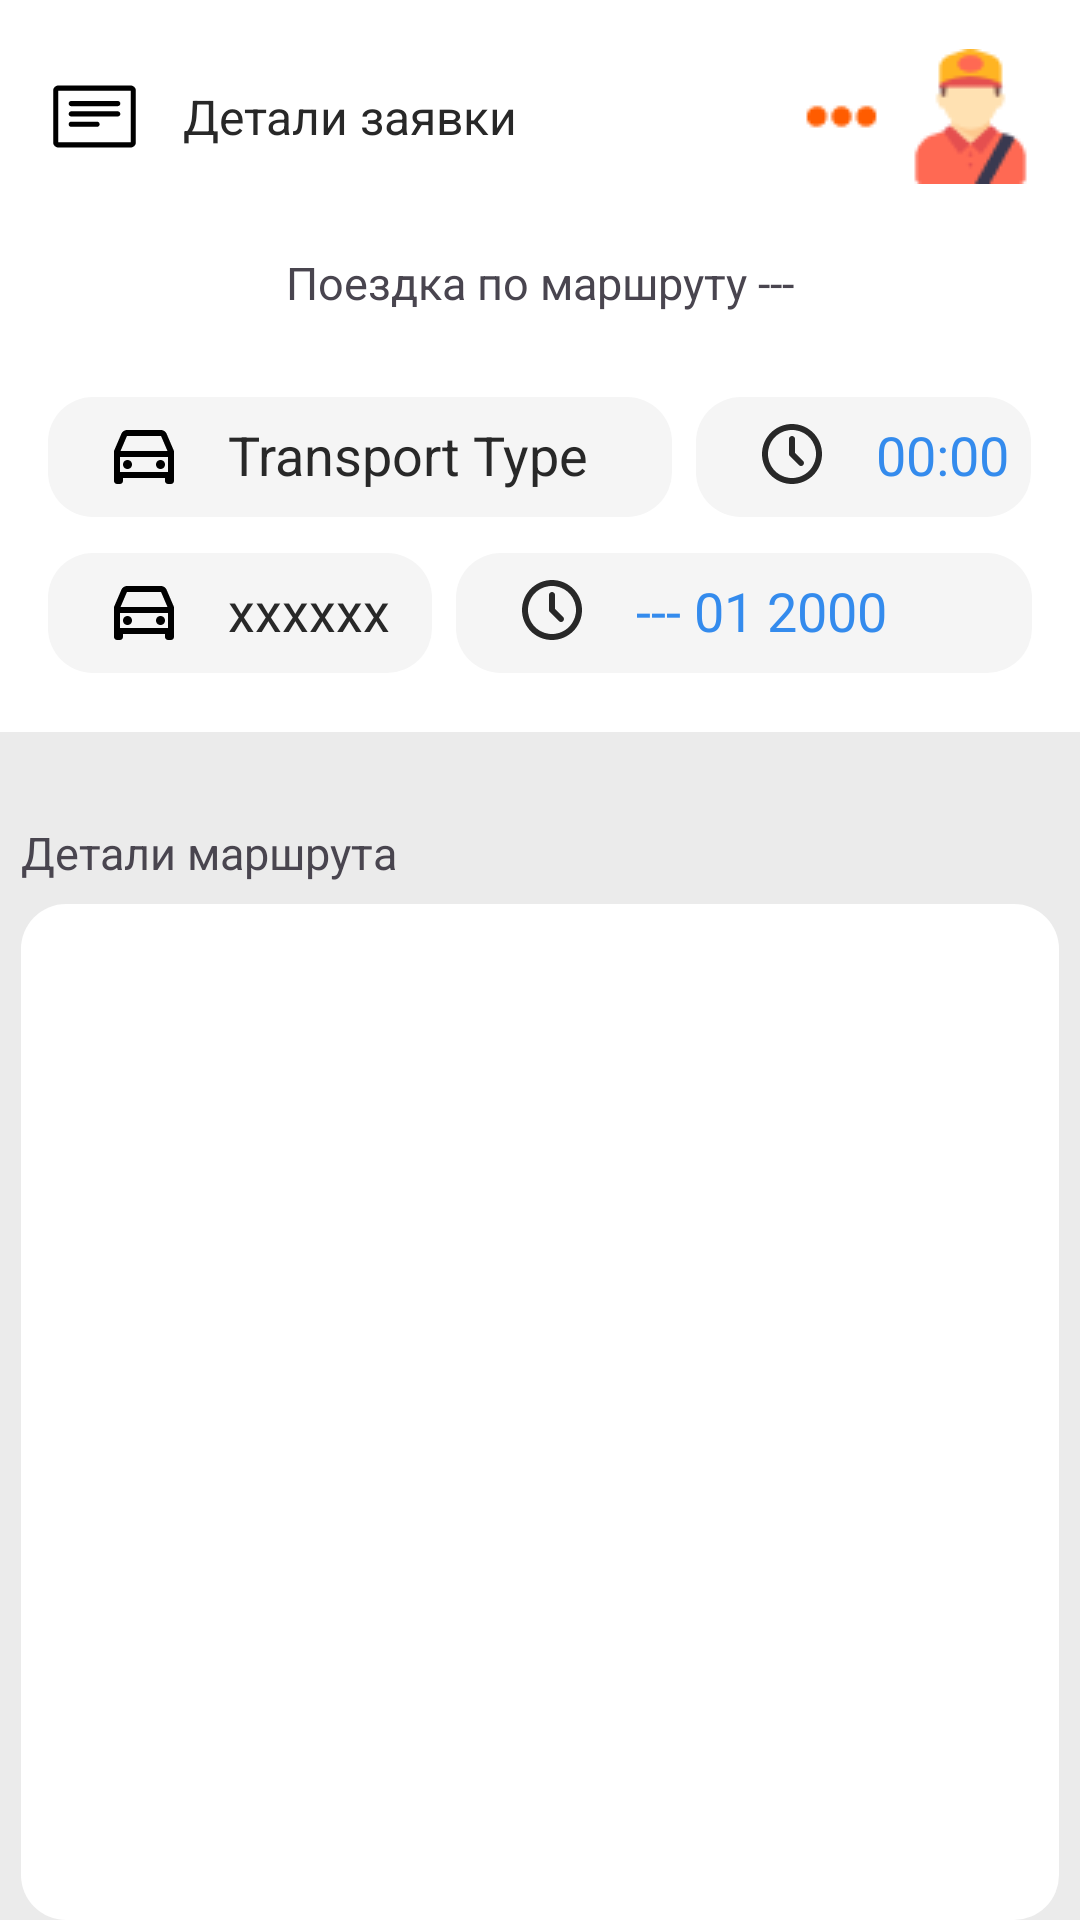

Named icons in this screenshot (1080×1920) and their bounding boxes, {"x1": x1, "y1": y1, "x2": x2, "y2": y2}:
details: {"x1": 53, "y1": 85, "x2": 136, "y2": 148}
